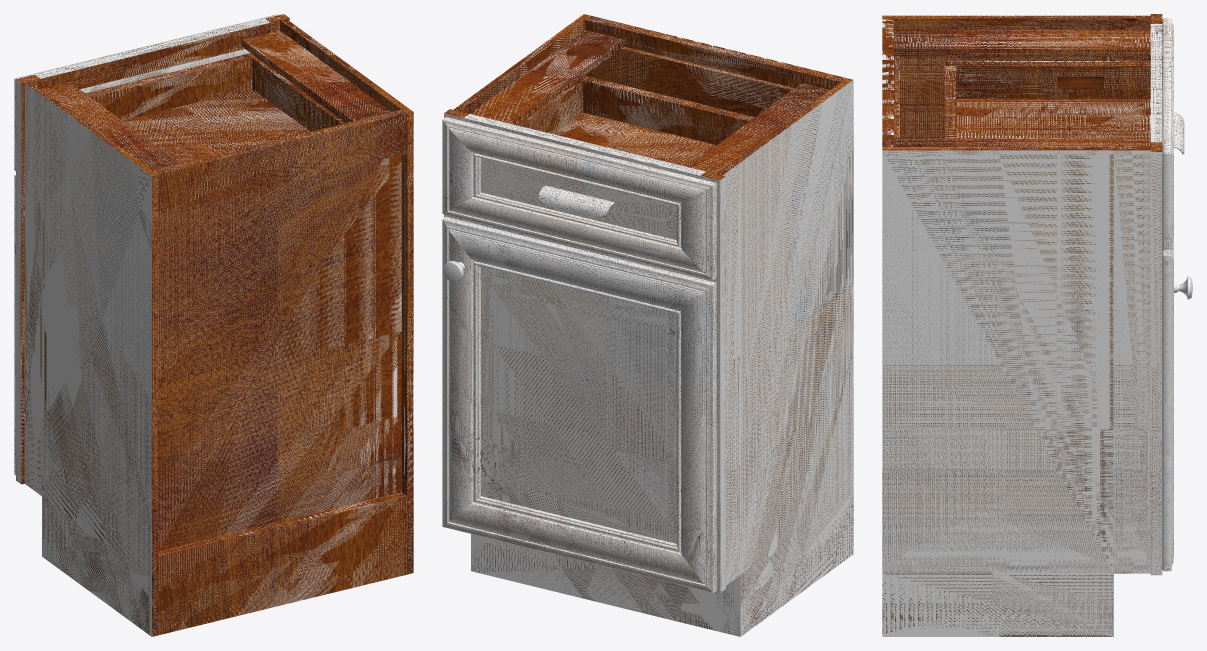
3 views of the same model, side by side, from view 1: azimuth 30°, elevation 25°; view 2: azimuth 150°, elevation 25°; view 3: azimuth 270°, elevation 25° (orthographic). The views are drawn at different scales.
Parts seen in each view (by area): view 1: mesh5_mesh5-geometry, mesh8_mesh8-geometry, mesh13_mesh13-geometry, mesh4_mesh4-geometry, mesh20_mesh20-geometry, mesh7_mesh7-geometry, mesh9_mesh9-geometry, mesh11_mesh11-geometry, mesh18_mesh18-geometry, mesh6_mesh6-geometry, mesh15_mesh15-geometry, mesh3_mesh3-geometry (+3 smaller); view 2: mesh8_mesh8-geometry, mesh41_mesh41-geometry, mesh37_mesh37-geometry, mesh38_mesh38-geometry, mesh14_mesh14-geometry, mesh40_mesh40-geometry, mesh39_mesh39-geometry, mesh9_mesh9-geometry, mesh5_mesh5-geometry, mesh7_mesh7-geometry, mesh26_mesh26-geometry, mesh27_mesh27-geometry (+21 smaller); view 3: mesh11_mesh11-geometry, mesh10_mesh10-geometry, mesh12_mesh12-geometry, mesh8_mesh8-geometry, mesh20_mesh20-geometry, mesh16_mesh16-geometry, mesh17_mesh17-geometry, mesh3_mesh3-geometry, mesh15_mesh15-geometry, mesh39_mesh39-geometry, mesh4_mesh4-geometry, mesh6_mesh6-geometry (+8 smaller).
Boxes of the visible parts, bbox=[...] form: mesh5_mesh5-geometry: bbox=[158, 155, 401, 551]; mesh8_mesh8-geometry: bbox=[42, 94, 158, 576]; mesh13_mesh13-geometry: bbox=[158, 492, 407, 635]; mesh4_mesh4-geometry: bbox=[153, 109, 407, 214]; mesh20_mesh20-geometry: bbox=[123, 89, 309, 163]; mesh7_mesh7-geometry: bbox=[24, 81, 47, 495]; mesh9_mesh9-geometry: bbox=[42, 496, 158, 636]; mesh11_mesh11-geometry: bbox=[297, 31, 413, 514]; mesh18_mesh18-geometry: bbox=[85, 54, 251, 120]; mesh6_mesh6-geometry: bbox=[35, 18, 270, 89]; mesh15_mesh15-geometry: bbox=[241, 30, 390, 122]; mesh3_mesh3-geometry: bbox=[16, 14, 289, 484]; mesh8_mesh8-geometry: bbox=[734, 78, 853, 574]; mesh41_mesh41-geometry: bbox=[493, 290, 665, 519]; mesh37_mesh37-geometry: bbox=[490, 228, 666, 332]; mesh38_mesh38-geometry: bbox=[490, 477, 665, 580]; mesh14_mesh14-geometry: bbox=[477, 535, 733, 635]; mesh40_mesh40-geometry: bbox=[665, 332, 716, 532]; mesh39_mesh39-geometry: bbox=[442, 280, 493, 477]; mesh9_mesh9-geometry: bbox=[734, 492, 853, 636]; mesh5_mesh5-geometry: bbox=[585, 46, 794, 116]; mesh7_mesh7-geometry: bbox=[716, 161, 740, 585]; mesh26_mesh26-geometry: bbox=[490, 129, 666, 203]; mesh27_mesh27-geometry: bbox=[490, 193, 665, 267]; mesh11_mesh11-geometry: bbox=[882, 147, 1113, 573]; mesh10_mesh10-geometry: bbox=[1114, 147, 1150, 573]; mesh12_mesh12-geometry: bbox=[882, 573, 1113, 636]; mesh8_mesh8-geometry: bbox=[882, 15, 1113, 137]; mesh20_mesh20-geometry: bbox=[956, 98, 1150, 137]; mesh16_mesh16-geometry: bbox=[894, 29, 1150, 56]; mesh17_mesh17-geometry: bbox=[944, 61, 1150, 98]; mesh3_mesh3-geometry: bbox=[1150, 14, 1162, 575]; mesh15_mesh15-geometry: bbox=[894, 138, 1150, 147]; mesh39_mesh39-geometry: bbox=[1162, 313, 1173, 509]; mesh4_mesh4-geometry: bbox=[882, 19, 893, 147]; mesh6_mesh6-geometry: bbox=[1150, 24, 1162, 142].
Size of the model in its own units: 0.4662 by 0.766 by 0.4426.
